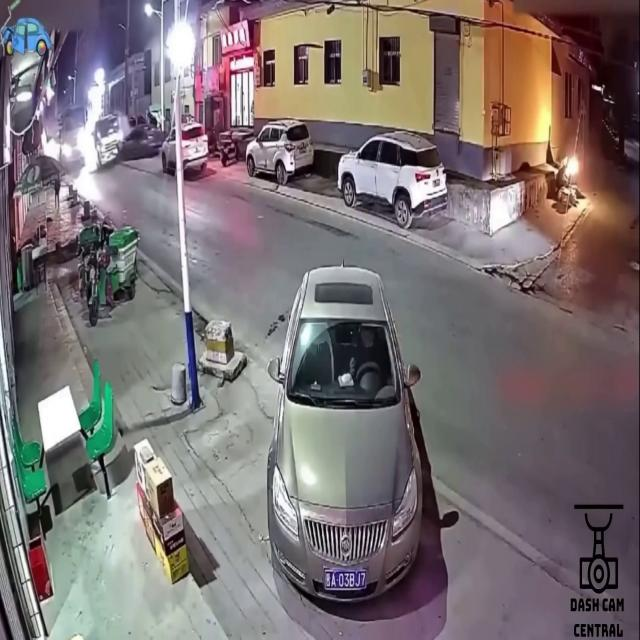accident: (92, 114, 160, 159)
